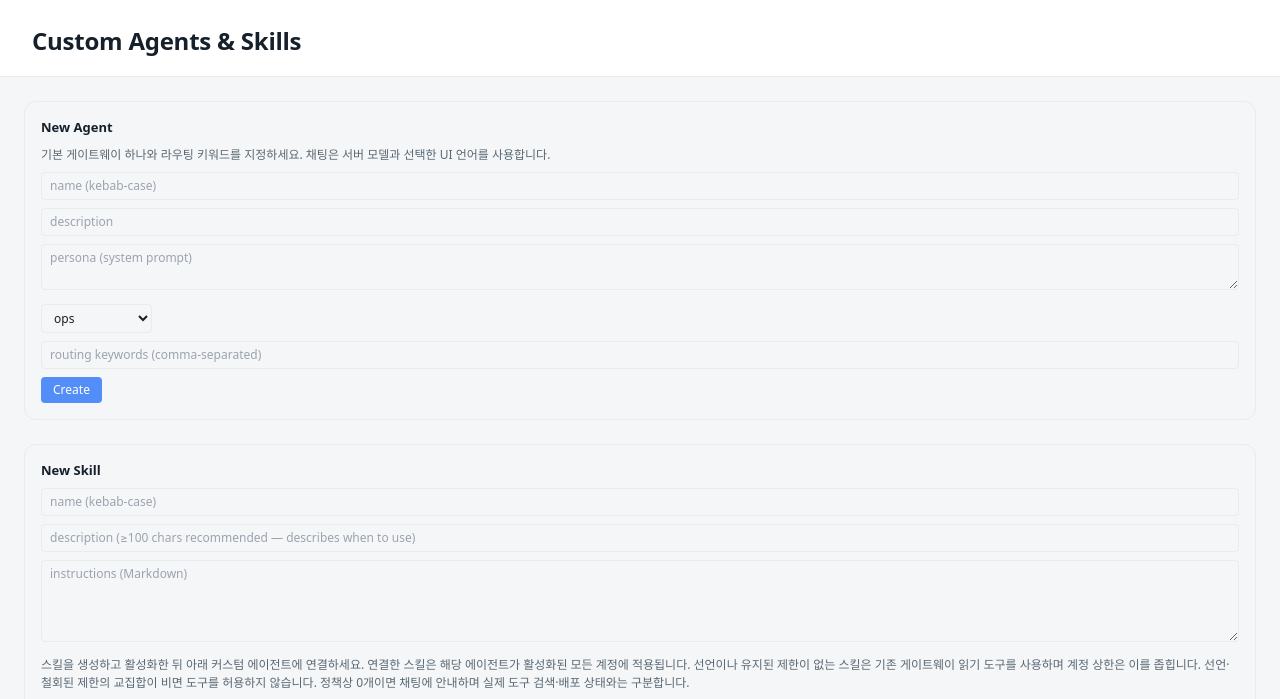
custom agent registration › explains reserved agent names in ko before submission
Type "auto" into the field with placeholder "name (kebab-case)" below "New Agent" at (640, 186), box [41, 172, 1239, 200]
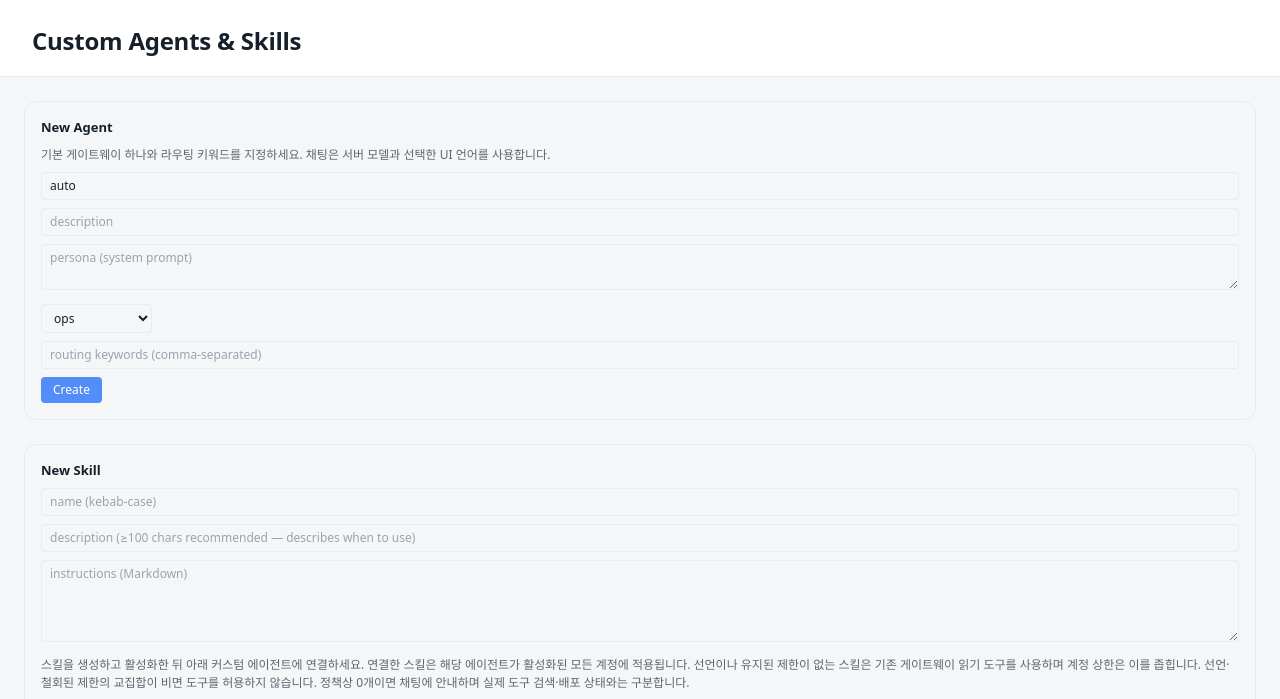
Click the button "Create" at (71, 390), box [41, 376, 102, 402]
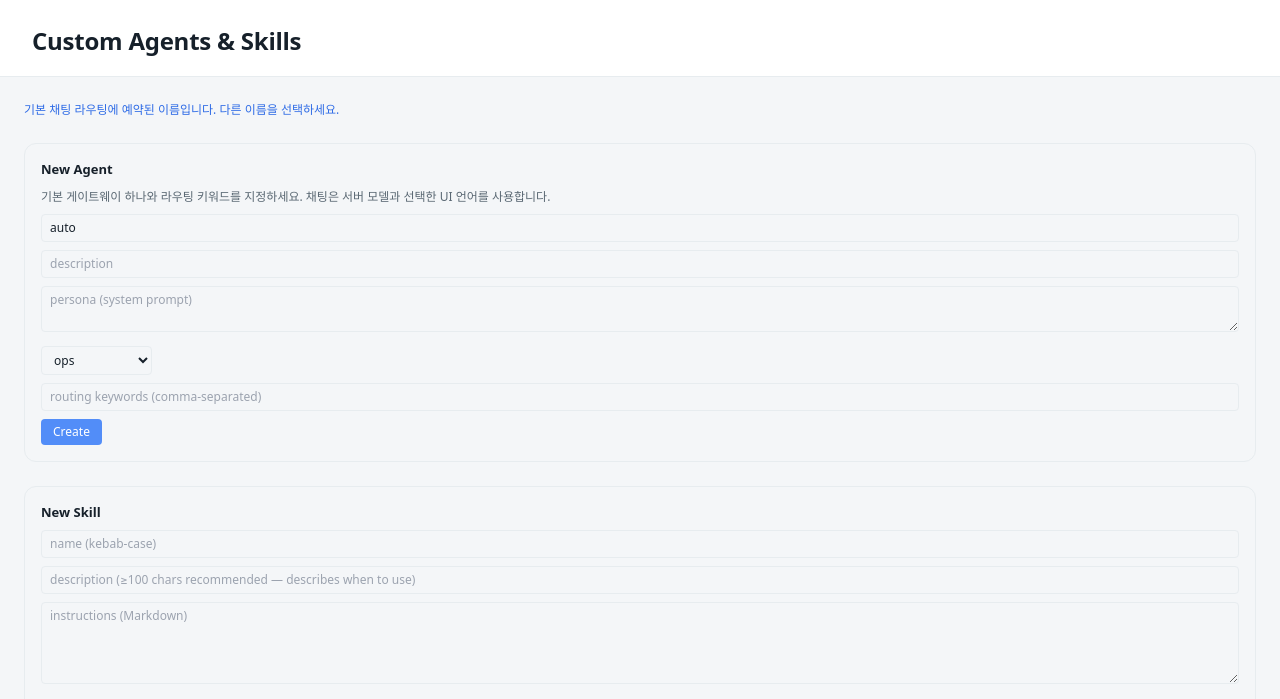
Result: the text "기본 채팅 라우팅에 예약된 이름입니다. 다른 이름을 선택하세요." is shown at [24, 101, 339, 118]
